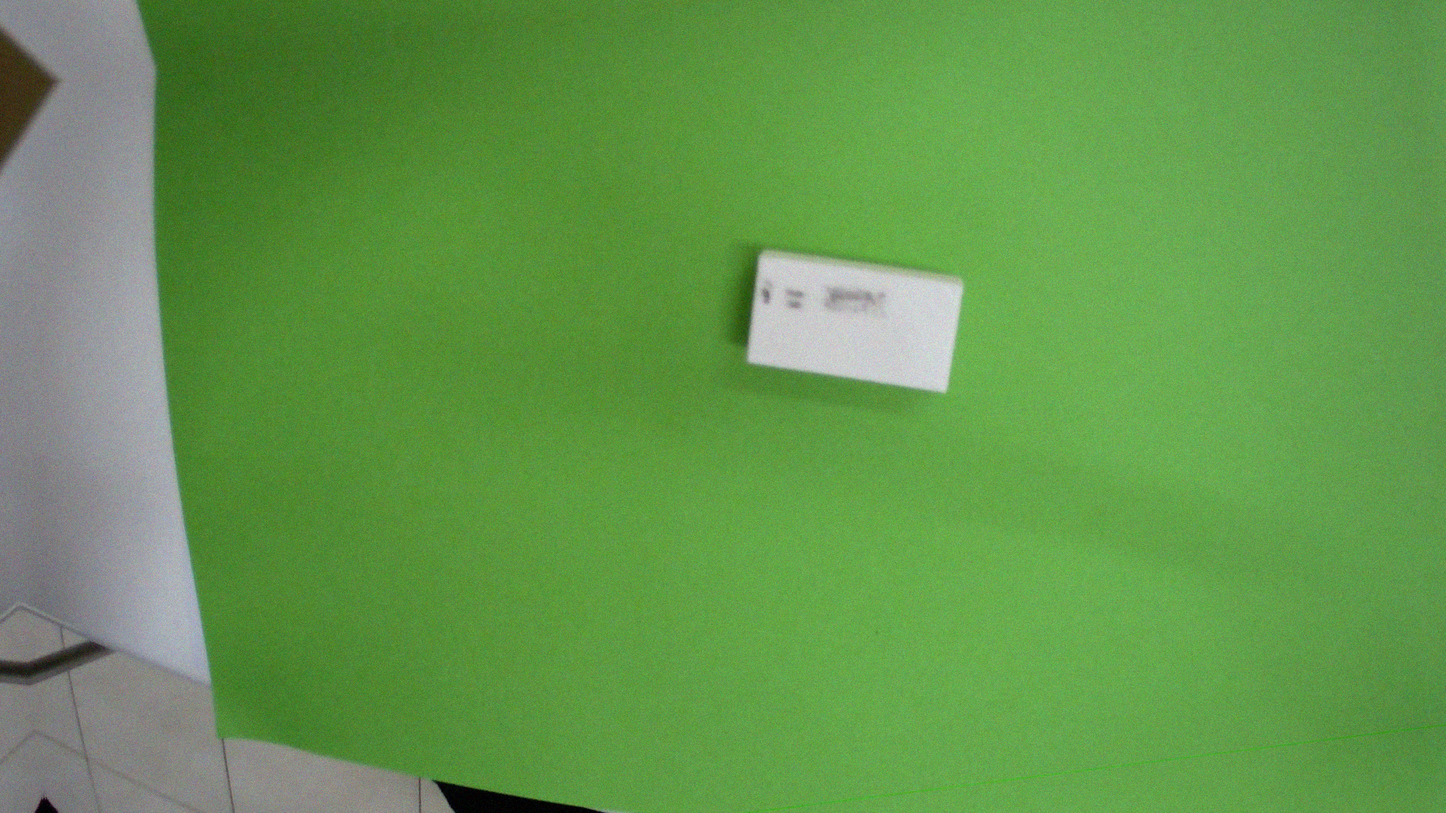gom: (720, 221, 977, 419)
